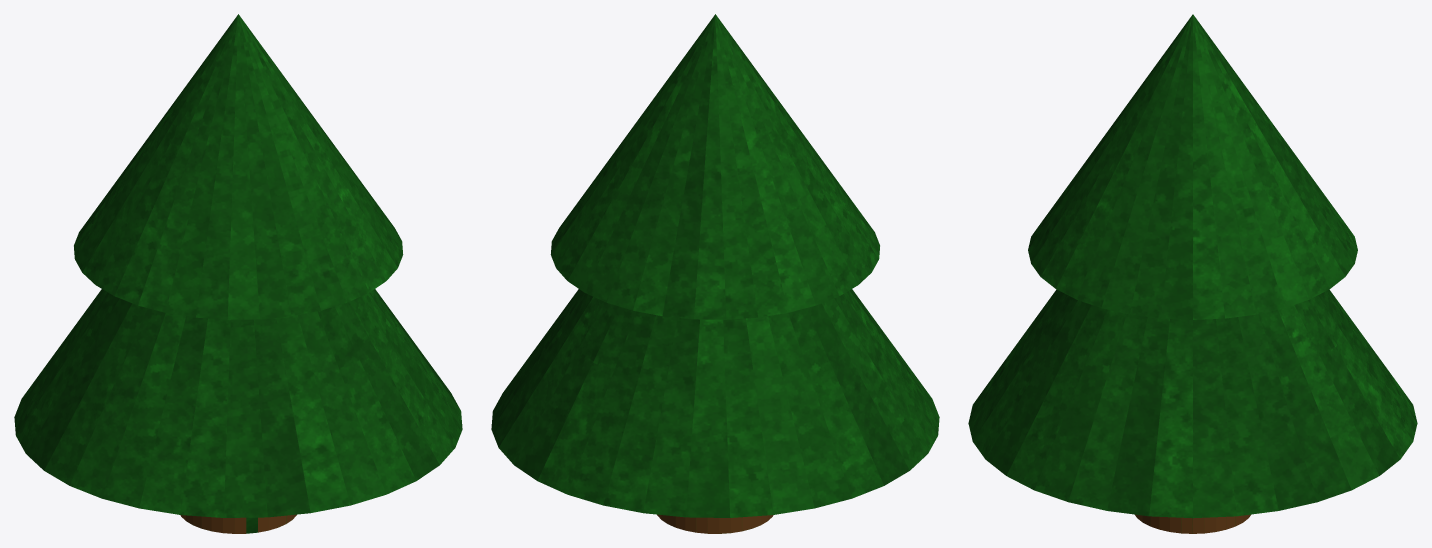
The model's file is tree.obj.
3 views of the same model, side by side, from view 1: azimuth 30°, elevation 25°; view 2: azimuth 150°, elevation 25°; view 3: azimuth 270°, elevation 25° (orthographic).
Visible parts, largest first — view 1: 円錐; view 2: 円錐; view 3: 円錐.
Boxes of the visible parts, left/top/right/bottom form: 円錐: left=14, top=14, right=462, bottom=533; 円錐: left=491, top=14, right=939, bottom=533; 円錐: left=968, top=14, right=1417, bottom=533.
Bounding box in the file's own units: 1.66 × 2.02 × 1.66.
1 material, 1 textured.
